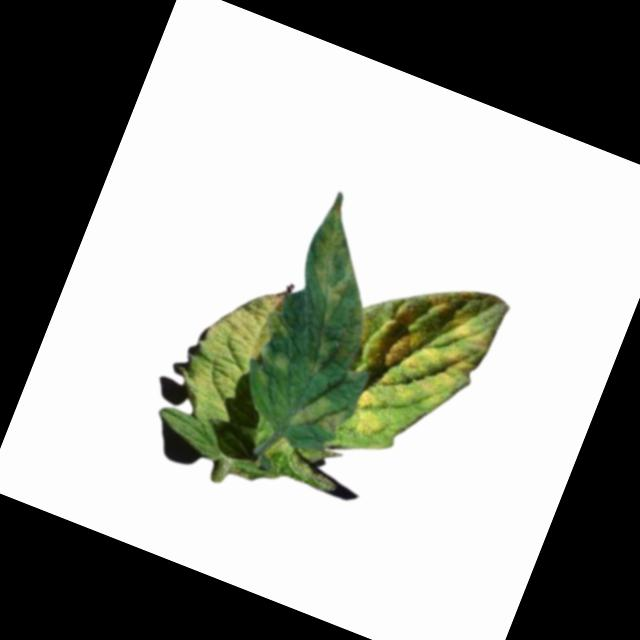Leaf_Mold: (339, 252, 510, 425), (174, 269, 292, 422), (284, 198, 375, 330), (282, 382, 349, 439), (344, 386, 394, 444), (302, 331, 337, 379)
